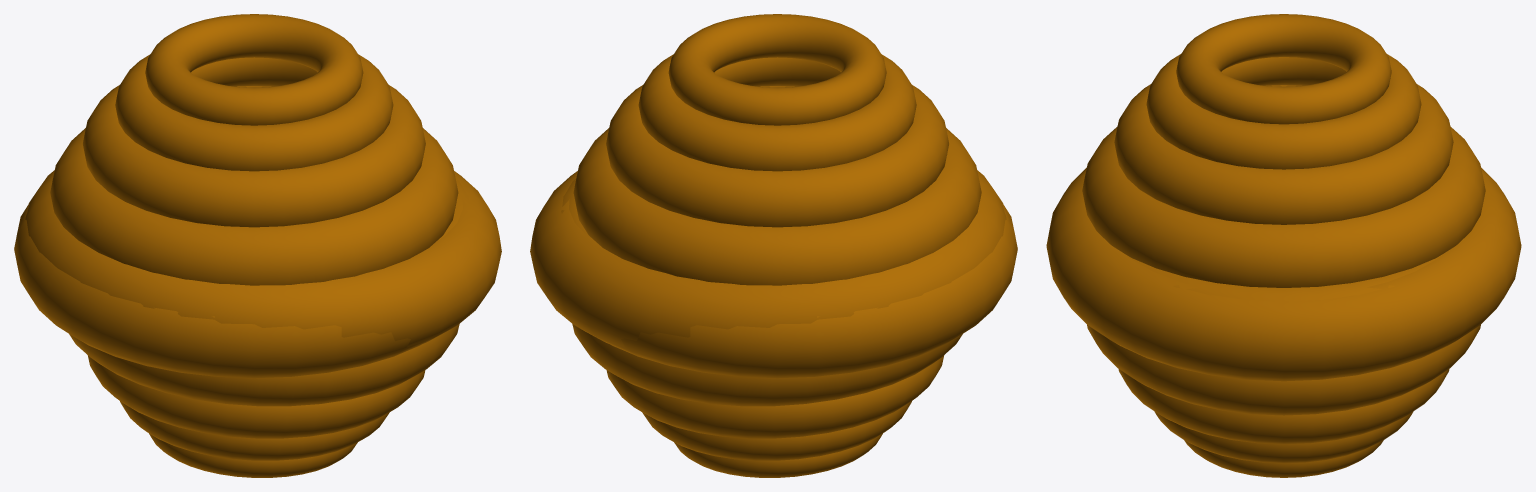
File: honey.fbx
The picture shows the model from 3 angles, left to right: view 1: azimuth 30°, elevation 25°; view 2: azimuth 150°, elevation 25°; view 3: azimuth 270°, elevation 25°; orthographic projection.
Visible parts, largest first — view 1: Torus_1, Torus_5, Torus_2, Torus, Torus_3, Torus_4, Torus_6, Torus_7, Torus_8, Torus_9; view 2: Torus_1, Torus_5, Torus_2, Torus, Torus_3, Torus_4, Torus_6, Torus_7, Torus_8, Torus_9; view 3: Torus_5, Torus_1, Torus_2, Torus_3, Torus_4, Torus_6, Torus_7, Torus_8, Torus, Torus_9.
Boxes of the visible parts, left/top/right/bottom form: Torus_1: left=50, top=128, right=458, bottom=285; Torus_5: left=25, top=170, right=501, bottom=347; Torus_2: left=83, top=85, right=425, bottom=227; Torus: left=14, top=178, right=470, bottom=378; Torus_3: left=115, top=54, right=393, bottom=171; Torus_4: left=145, top=14, right=363, bottom=125; Torus_6: left=69, top=324, right=459, bottom=406; Torus_7: left=88, top=355, right=425, bottom=438; Torus_8: left=120, top=401, right=389, bottom=460; Torus_9: left=149, top=433, right=357, bottom=477; Torus_1: left=573, top=128, right=981, bottom=285; Torus_5: left=530, top=170, right=1006, bottom=347; Torus_2: left=606, top=85, right=948, bottom=227; Torus: left=561, top=178, right=1017, bottom=378; Torus_3: left=638, top=54, right=916, bottom=171; Torus_4: left=668, top=14, right=886, bottom=125; Torus_6: left=572, top=324, right=962, bottom=406; Torus_7: left=606, top=355, right=943, bottom=438; Torus_8: left=642, top=401, right=911, bottom=460; Torus_9: left=674, top=433, right=882, bottom=477; Torus_5: left=1046, top=167, right=1521, bottom=381; Torus_1: left=1082, top=126, right=1485, bottom=287; Torus_2: left=1114, top=84, right=1453, bottom=224; Torus_3: left=1146, top=54, right=1421, bottom=169; Torus_4: left=1176, top=14, right=1391, bottom=124; Torus_6: left=1087, top=325, right=1480, bottom=415; Torus_7: left=1118, top=369, right=1449, bottom=444; Torus_8: left=1154, top=411, right=1413, bottom=463; Torus: left=1047, top=249, right=1520, bottom=301; Torus_9: left=1184, top=440, right=1383, bottom=477.
Size of the model in its own units: 90.22 by 79.66 by 88.67.
